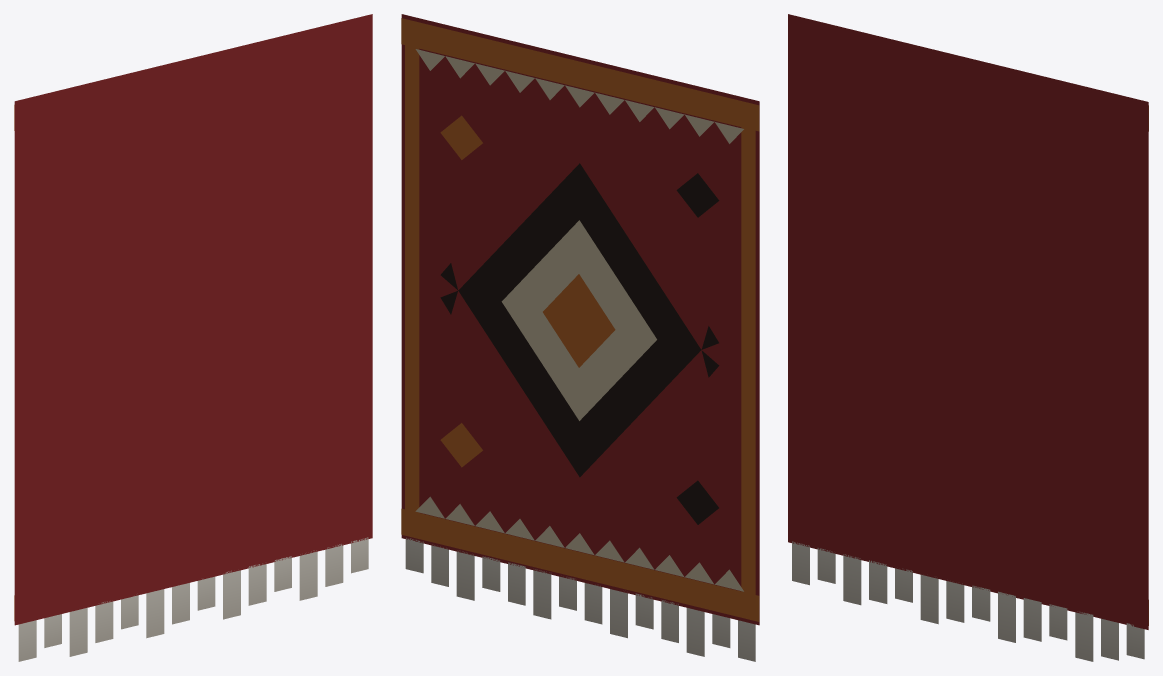
The model's file is rug_hanging.glb.
3 views of the same model, side by side, from view 1: azimuth 30°, elevation 25°; view 2: azimuth 150°, elevation 25°; view 3: azimuth 330°, elevation 25° (orthographic).
Parts seen in each view (by area): view 1: rug_hanging; view 2: rug_hanging; view 3: rug_hanging.
Boxes of the visible parts, bbox=[...] form: rug_hanging: bbox=[14, 14, 372, 661]; rug_hanging: bbox=[401, 14, 759, 661]; rug_hanging: bbox=[788, 14, 1148, 661].
Size of the model in its own units: 1 by 1.52 by 0.008.
